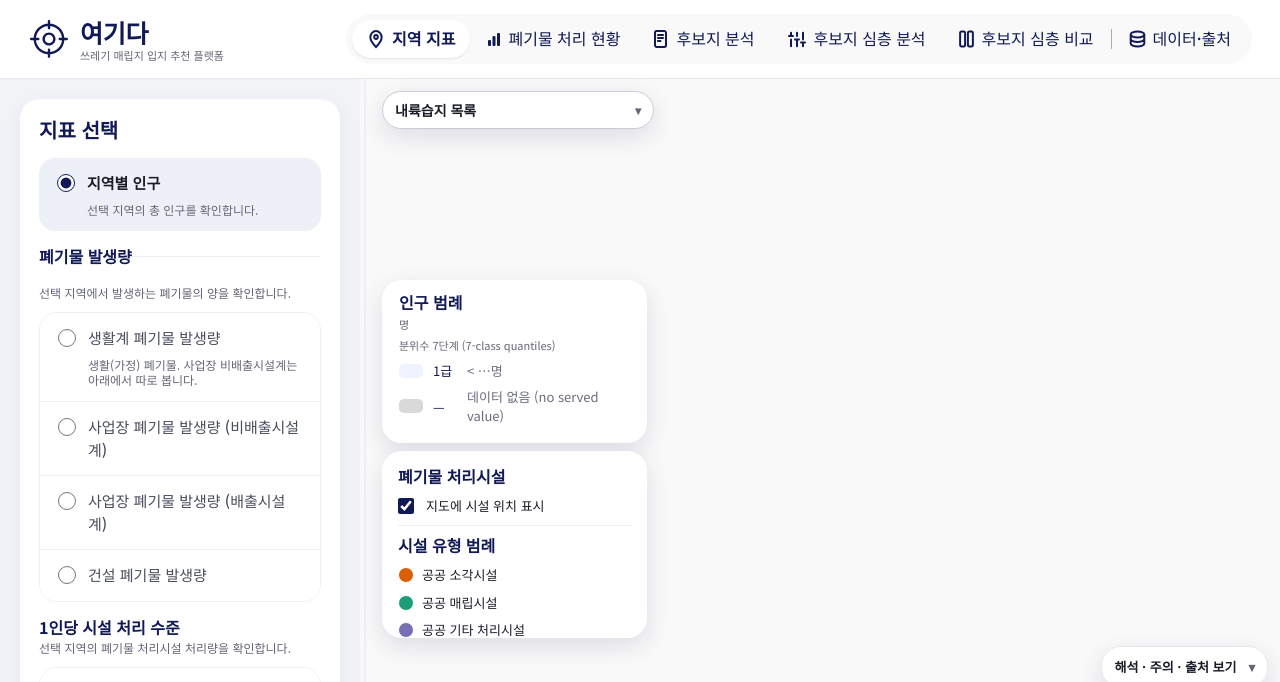
Phase 0 — the screening limitation is carried in every suitability sub-view › carries the screening limitation in 후보지 점수 without a banner
The width and height of the screenshot is (1280, 682).
What coordinates should you click on to do the following:
click the button with test id "mode-suitability"
I would click on:
 (856, 39)
Its box is 772,20 -> 941,58.
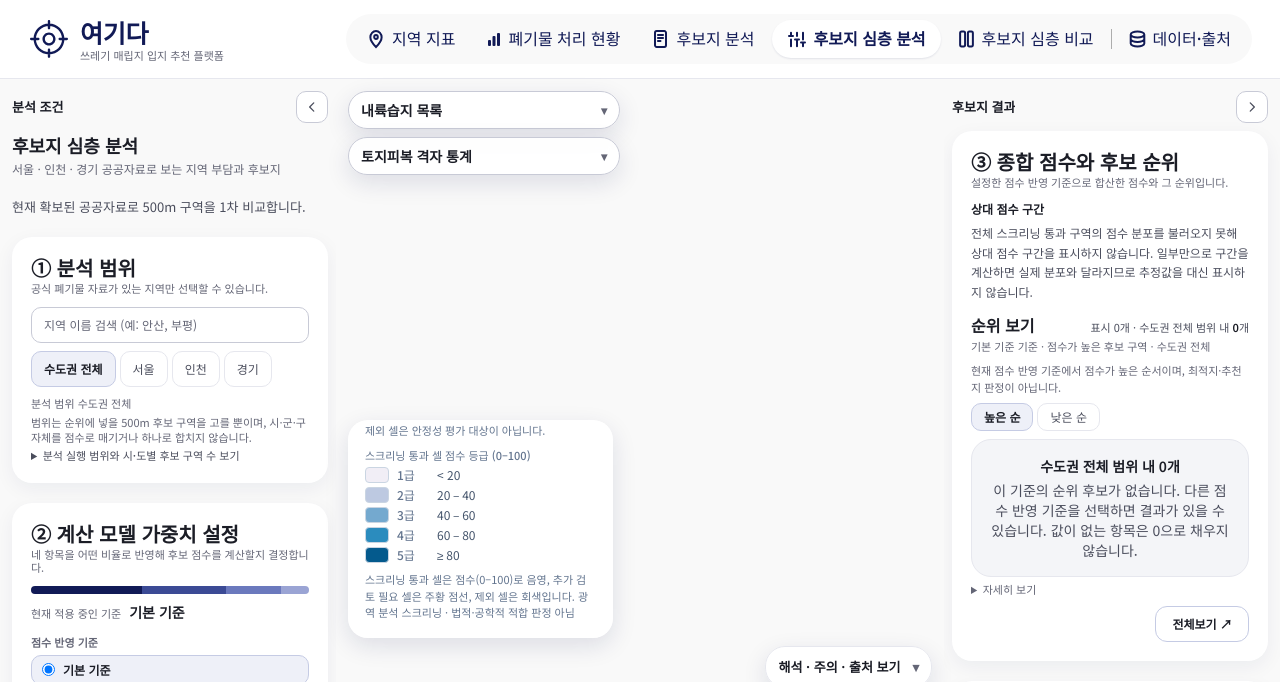
Check: the element with test id "suitability-disclaimer" does not show ""
Check: the text with test id "suitability-legend-note" shows "광역 분석 스크리닝 · 법적·공학적 적합 판정 아님", box 365,588 -> 588,620
